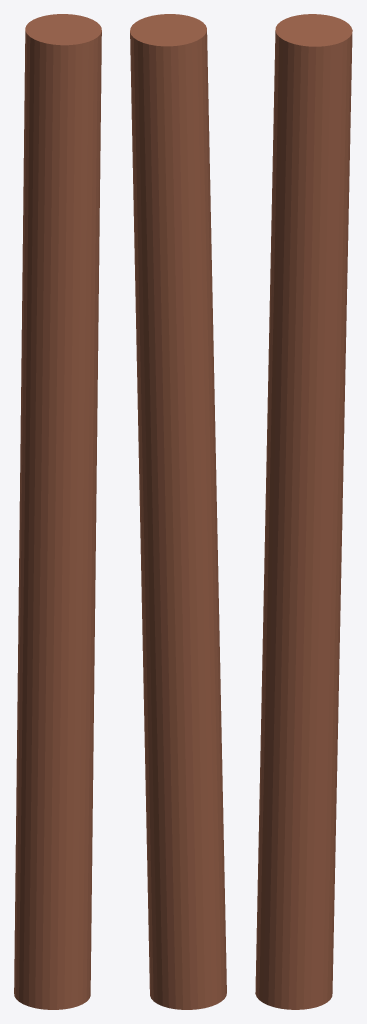
3 views of the same model, side by side, from view 1: azimuth 30°, elevation 25°; view 2: azimuth 150°, elevation 25°; view 3: azimuth 330°, elevation 25° (orthographic).
Parts seen in each view (by area): view 1: Cylinder.001; view 2: Cylinder.001; view 3: Cylinder.001.
Boxes of the visible parts, x1,y1,x2,y2 form: Cylinder.001: (14, 14, 101, 1009); Cylinder.001: (130, 14, 226, 1009); Cylinder.001: (255, 14, 352, 1009).
Size of the model in its own units: 0.039 by 0.4363 by 0.0352.
